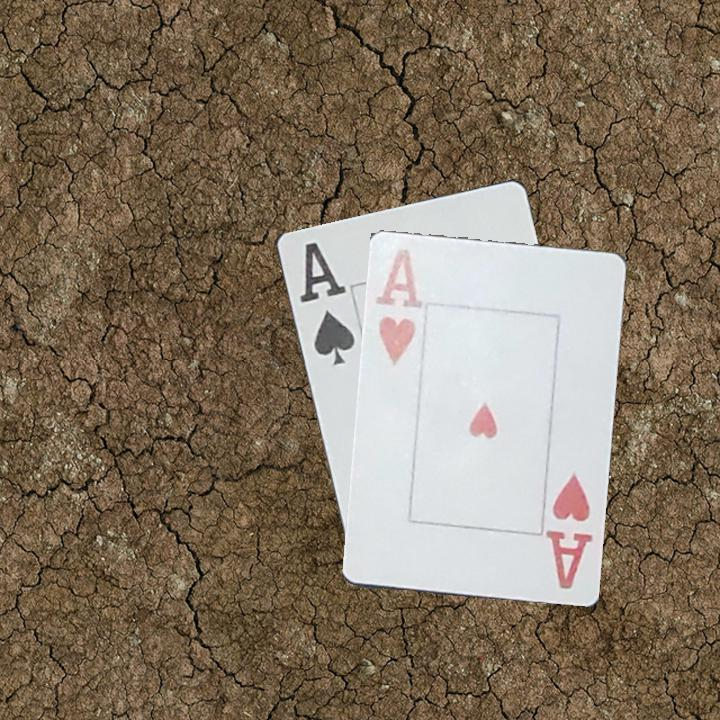Ah: (372, 245, 426, 370), (542, 471, 596, 593)
As: (295, 238, 358, 370)
